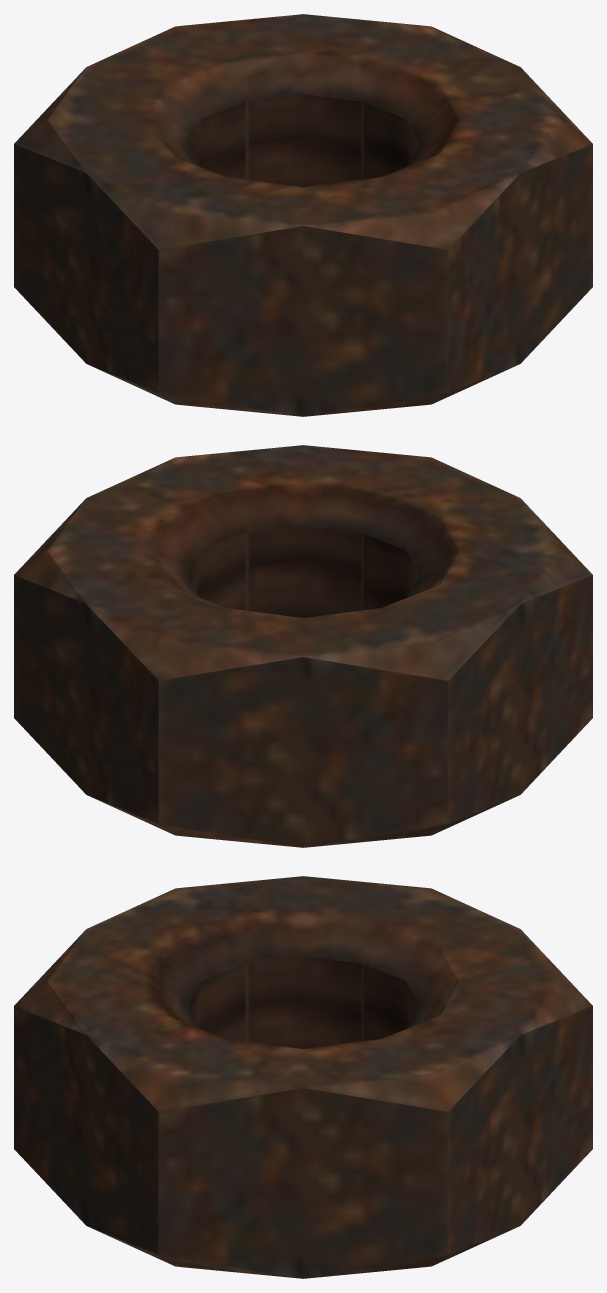
Rendered from hexagon_nut_mx_1.obj.
3 views of the same model, one above another, from view 1: azimuth 30°, elevation 25°; view 2: azimuth 150°, elevation 25°; view 3: azimuth 270°, elevation 25° (orthographic).
Visible parts, largest first — view 1: hexagon_nut_mx_1; view 2: hexagon_nut_mx_1; view 3: hexagon_nut_mx_1.
Part boxes in pixels (x1,y1,x2,y2): hexagon_nut_mx_1: [14, 14, 592, 416]; hexagon_nut_mx_1: [14, 445, 592, 847]; hexagon_nut_mx_1: [14, 876, 592, 1278].
Bounding box in the file's own units: 0.1905 × 0.08 × 0.22.
